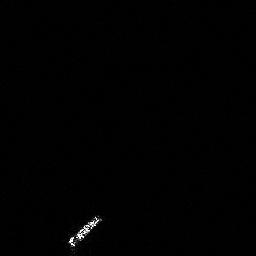ship: (66, 214, 103, 247)
